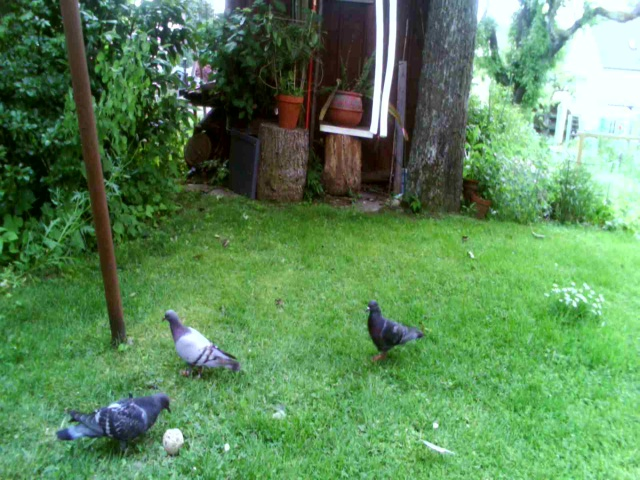Pigeon: (53, 391, 174, 459), (155, 309, 248, 383), (366, 294, 426, 368)
